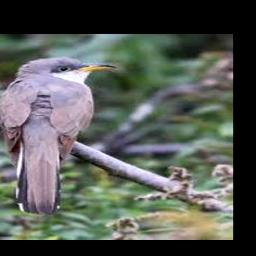Cuckoo: (0, 56, 116, 214)
